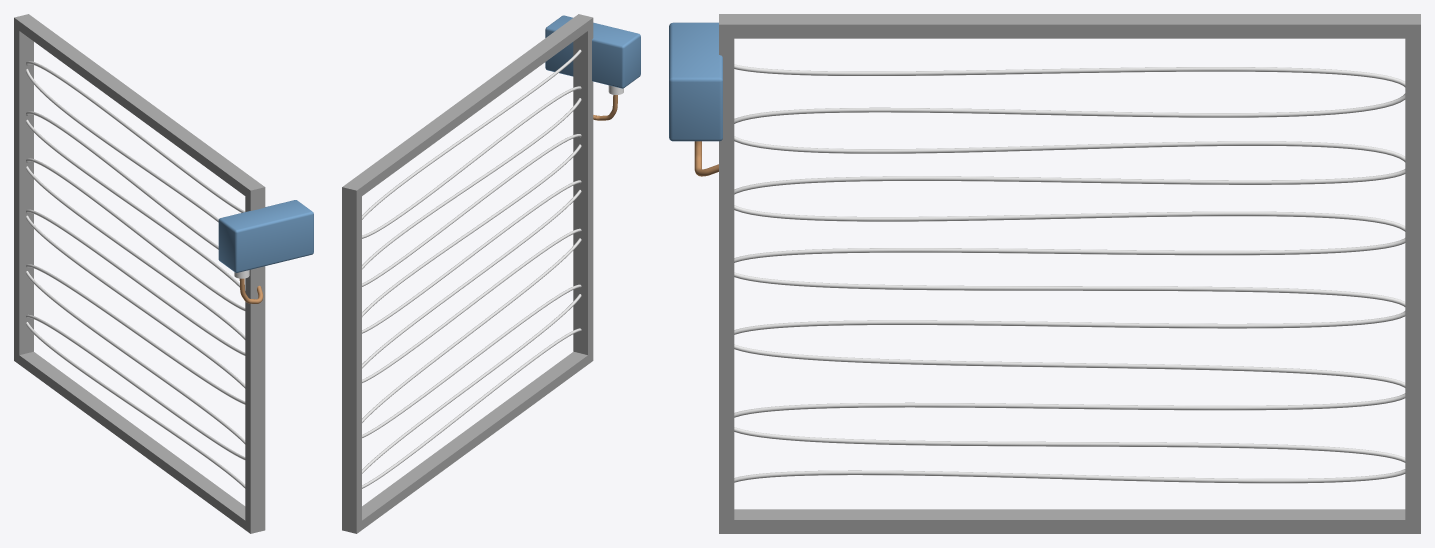
The model's file is SENSOR2.glb.
3 views of the same model, side by side, from view 1: azimuth 30°, elevation 25°; view 2: azimuth 150°, elevation 25°; view 3: azimuth 270°, elevation 25° (orthographic). The views are drawn at different scales.
Parts seen in each view (by area): view 1: SENSOR-BODY.001, SENSOR-COIL.001; view 2: SENSOR-BODY.001, SENSOR-COIL.001; view 3: SENSOR-BODY.001, SENSOR-COIL.001.
Part boxes in pixels (x1,y1,x2,y2): SENSOR-BODY.001: (14,14,313,533); SENSOR-COIL.001: (26,61,245,488); SENSOR-BODY.001: (342,14,640,533); SENSOR-COIL.001: (362,49,581,488); SENSOR-BODY.001: (669,14,1420,533); SENSOR-COIL.001: (734,64,1405,483).
Bounding box in the file's own units: 0.2321 × 0.9635 × 1.29.
